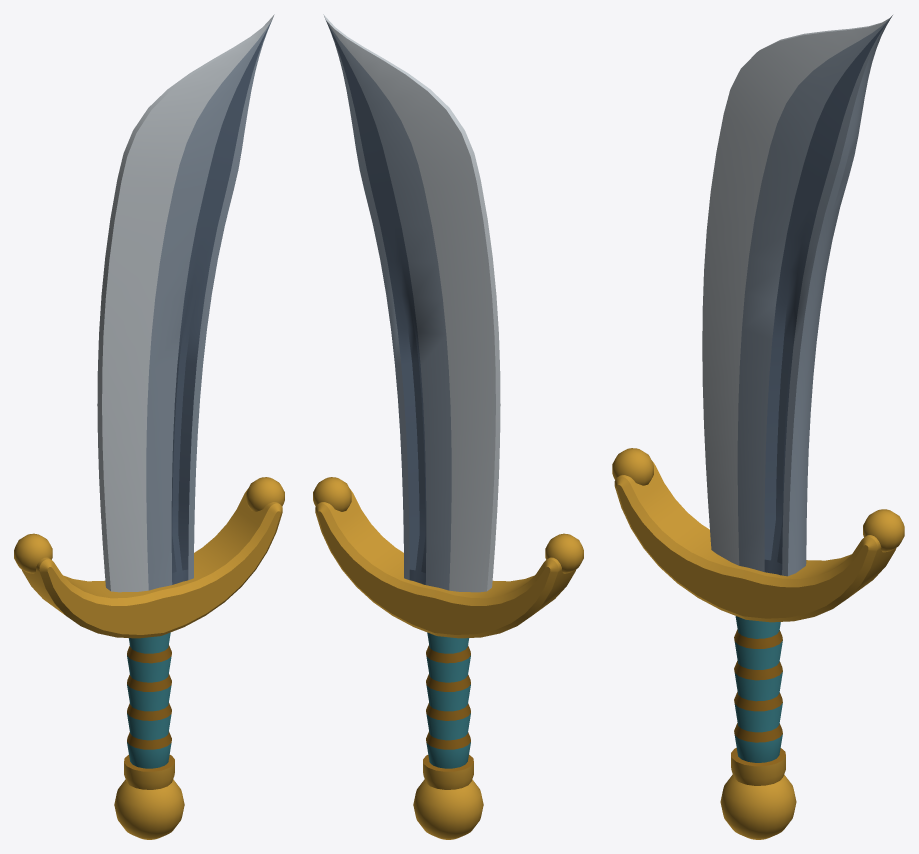
The model's file is Scimitar_24.glb.
The picture shows the model from 3 angles, left to right: view 1: azimuth 30°, elevation 25°; view 2: azimuth 150°, elevation 25°; view 3: azimuth 330°, elevation 25°; orthographic projection. The views are drawn at different scales.
Parts seen in each view (by area): view 1: Scimitar_24; view 2: Scimitar_24; view 3: Scimitar_24.
Boxes of the visible parts, x1,y1,x2,y2 form: Scimitar_24: [14, 14, 284, 839]; Scimitar_24: [313, 14, 583, 839]; Scimitar_24: [612, 15, 904, 839].
Size of the model in its own units: 2.31 by 6.57 by 0.53.
